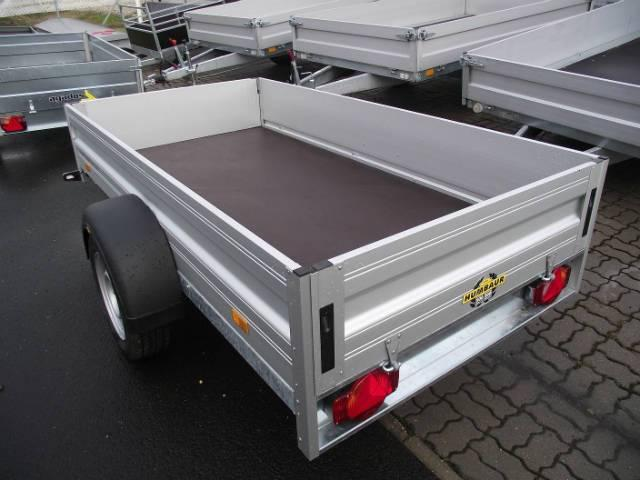trailer: (63, 74, 614, 462), (0, 32, 149, 137)
